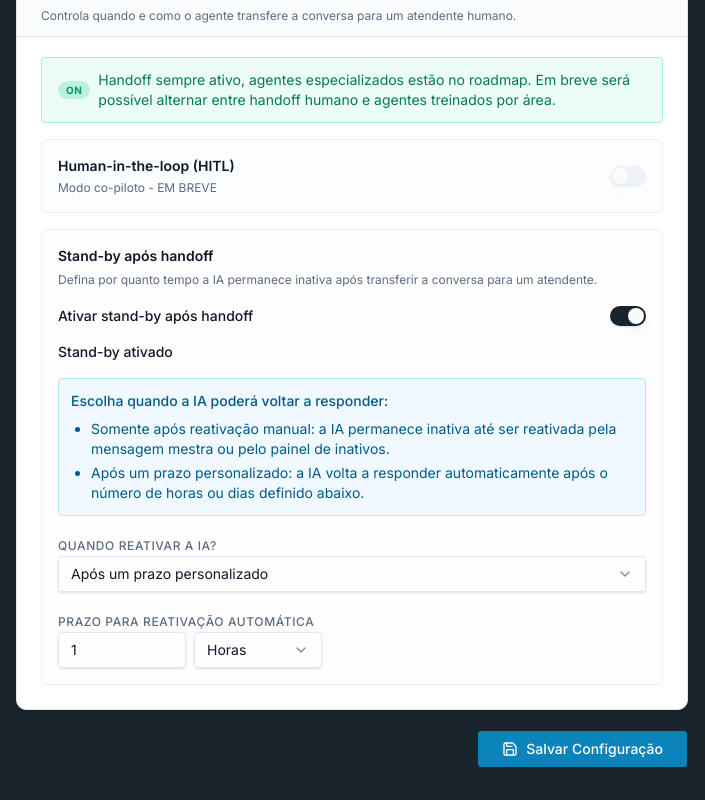
Scenario: <ClinicConfig /> handoff stand-by › blocks PATCH for invalid custom value -1 in hours
(page scrolled)
Expected: the element with test id "handoff-standby-settings" is shown, [41,229,663,684]
Replace the text in the number field with "-1": {"x": 122, "y": 650} [58,632,186,668]
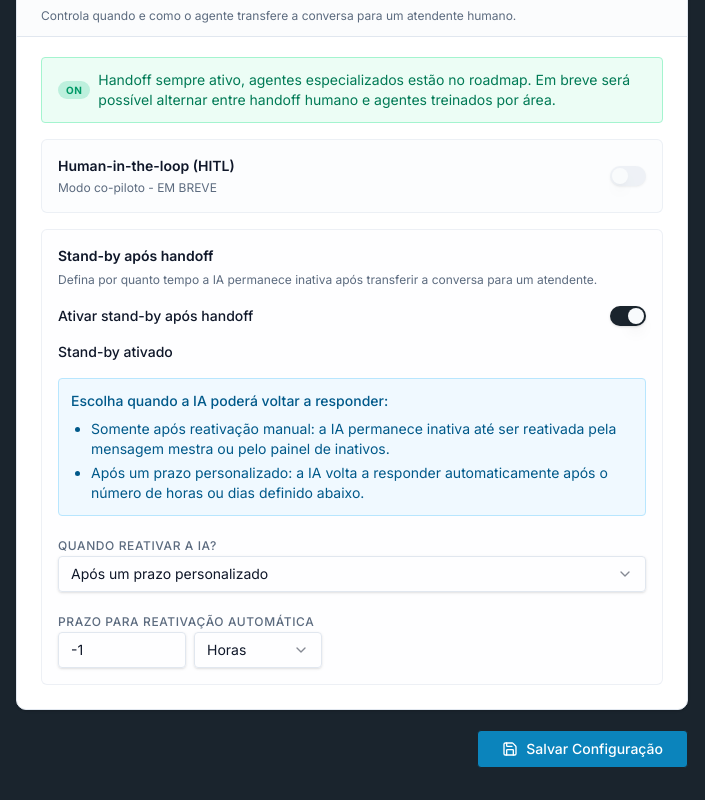
Click the button with test id "btn-save-config": {"x": 583, "y": 748} [477,730,688,768]
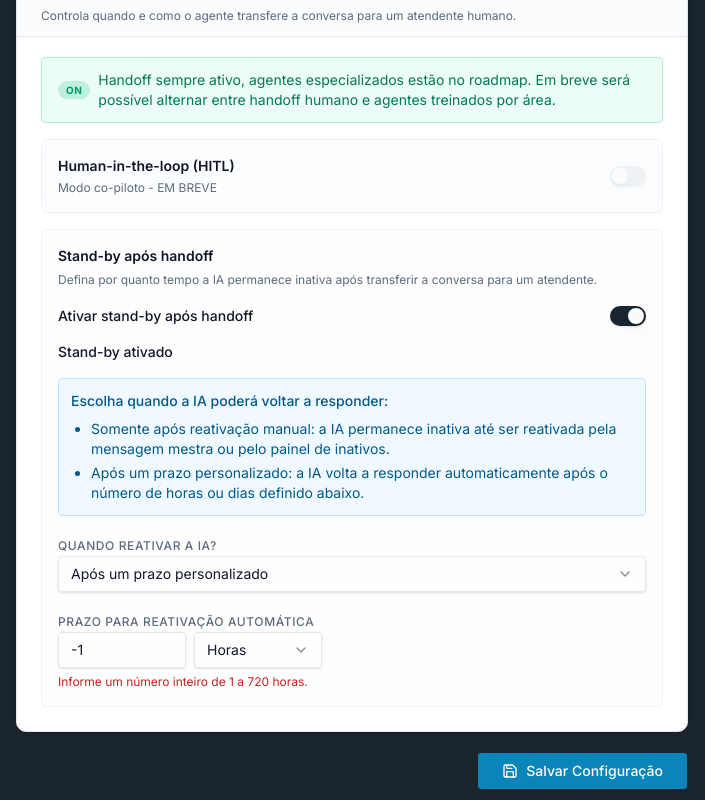
Now the message reads "Informe um número inteiro de 1 a 720 horas.", box [58,674,308,688]
